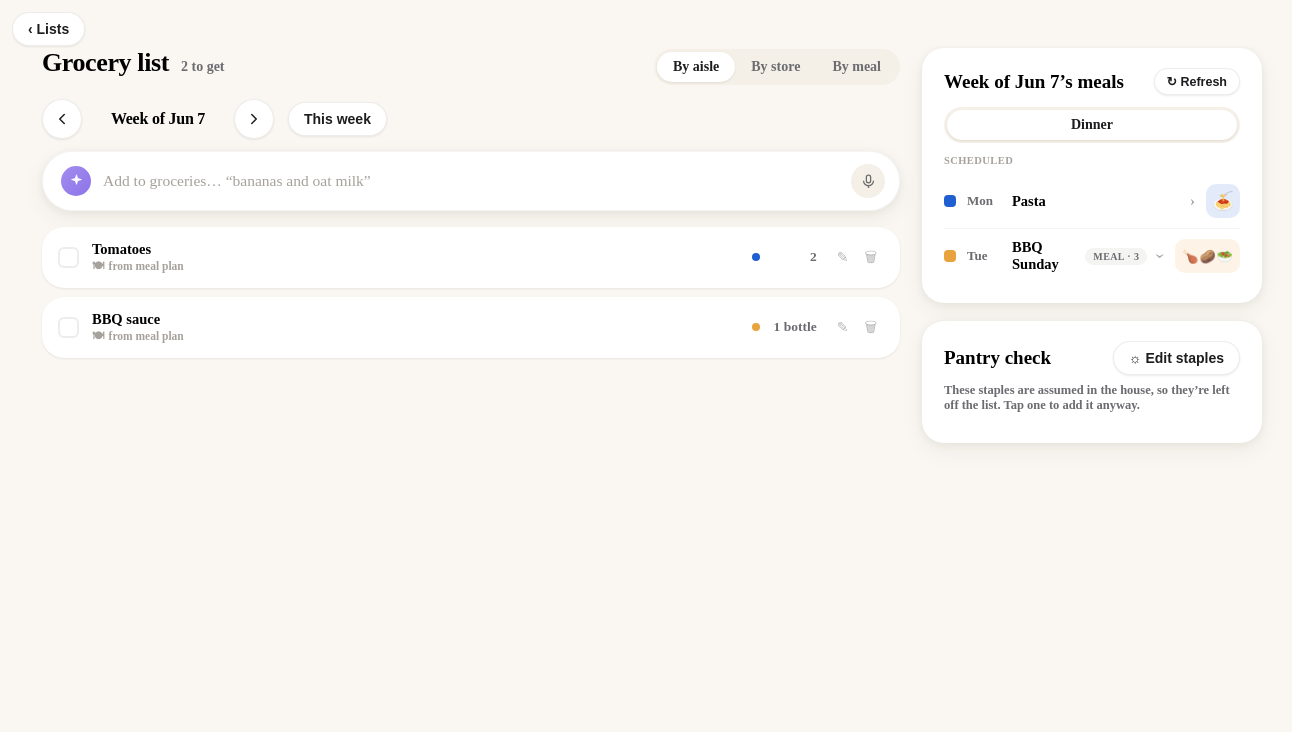
it: GroceryBoard meal plates (week rail) › expands a plate into one child row per dish, and collapses again
The width and height of the screenshot is (1292, 732).
Check: the text "BBQ sauce" is shown, box [92, 311, 160, 327]
Click the button "Tue BBQ Sunday Meal · 3 › 🍗 🥔 🥗" at (1092, 256), box [944, 229, 1240, 283]
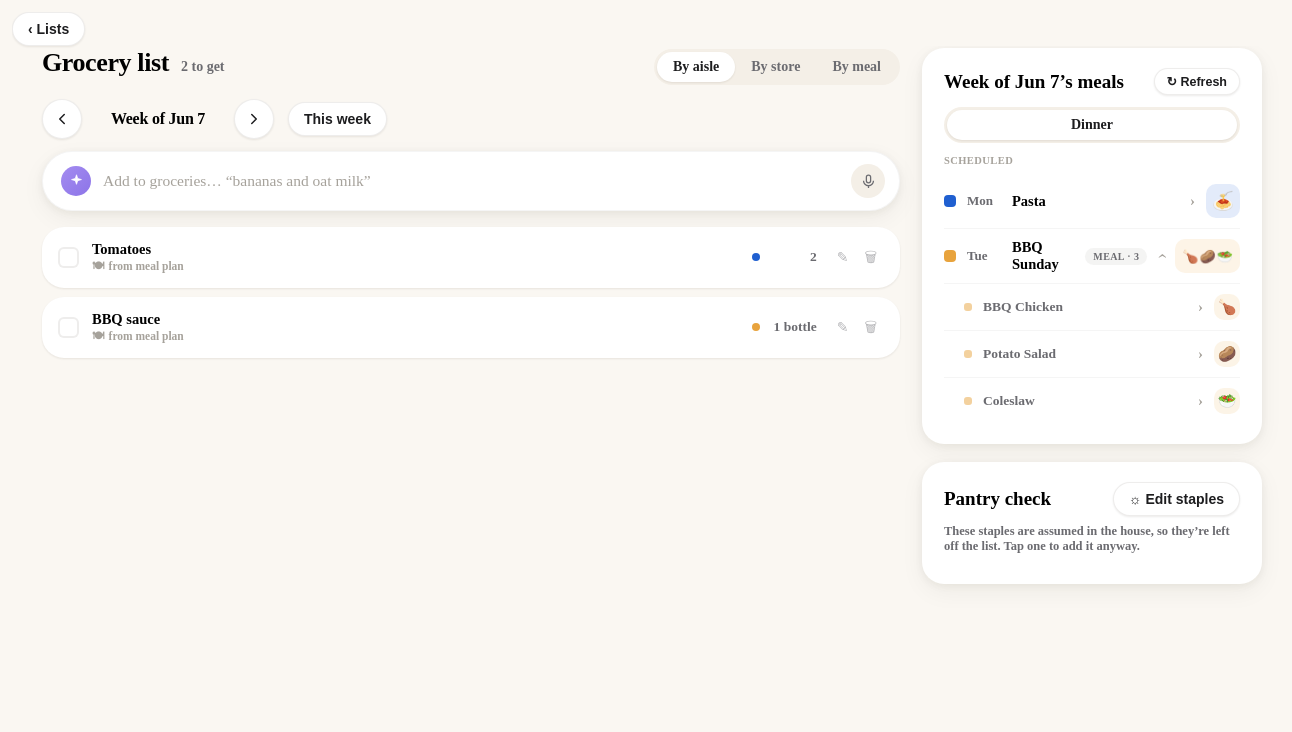
Check: the number of buttons with class "gdish" is 3, box [944, 284, 1240, 331]; [944, 331, 1240, 378]; [964, 388, 1240, 414]
Check: the text "BBQ Chicken" is shown, box [983, 299, 1063, 314]
Check: the text "Potato Salad" is shown, box [983, 346, 1056, 361]
Click the button "Tue BBQ Sunday Meal · 3 › 🍗 🥔 🥗" at (1092, 256), box [944, 229, 1240, 284]
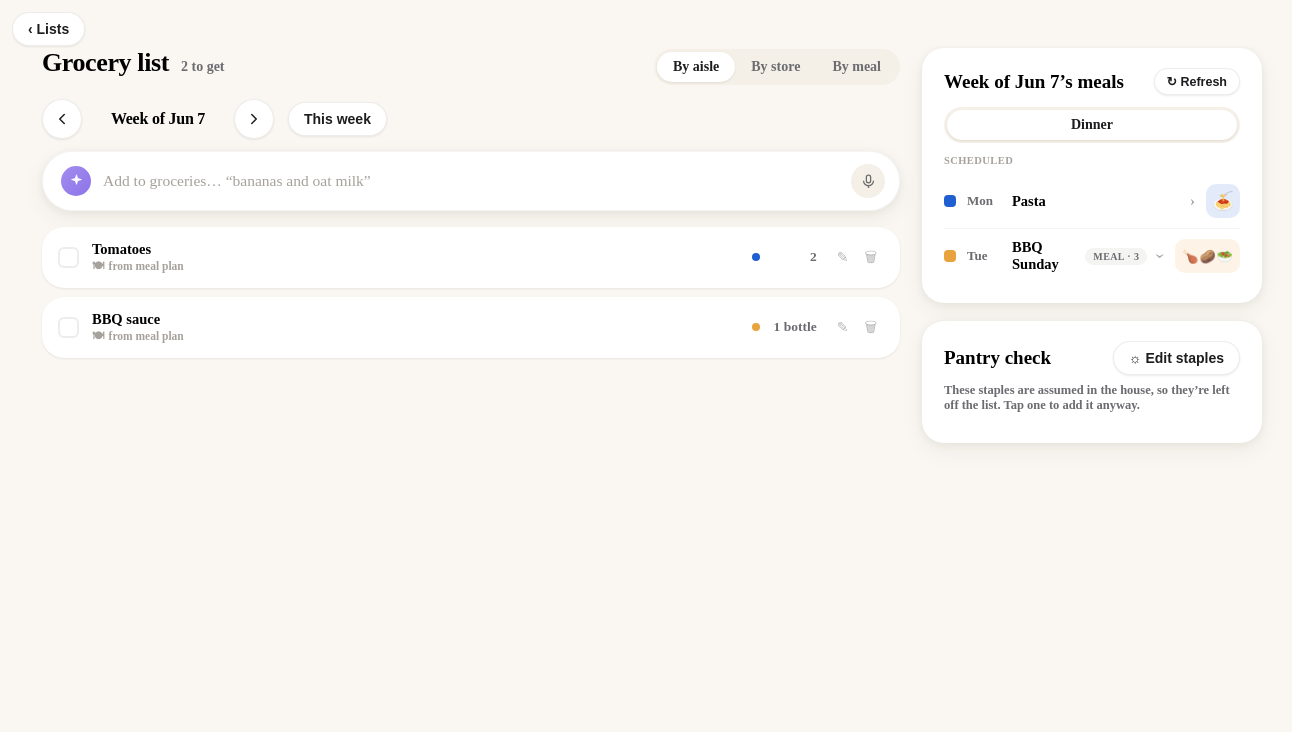
Check: no buttons with class "gdish" are shown
